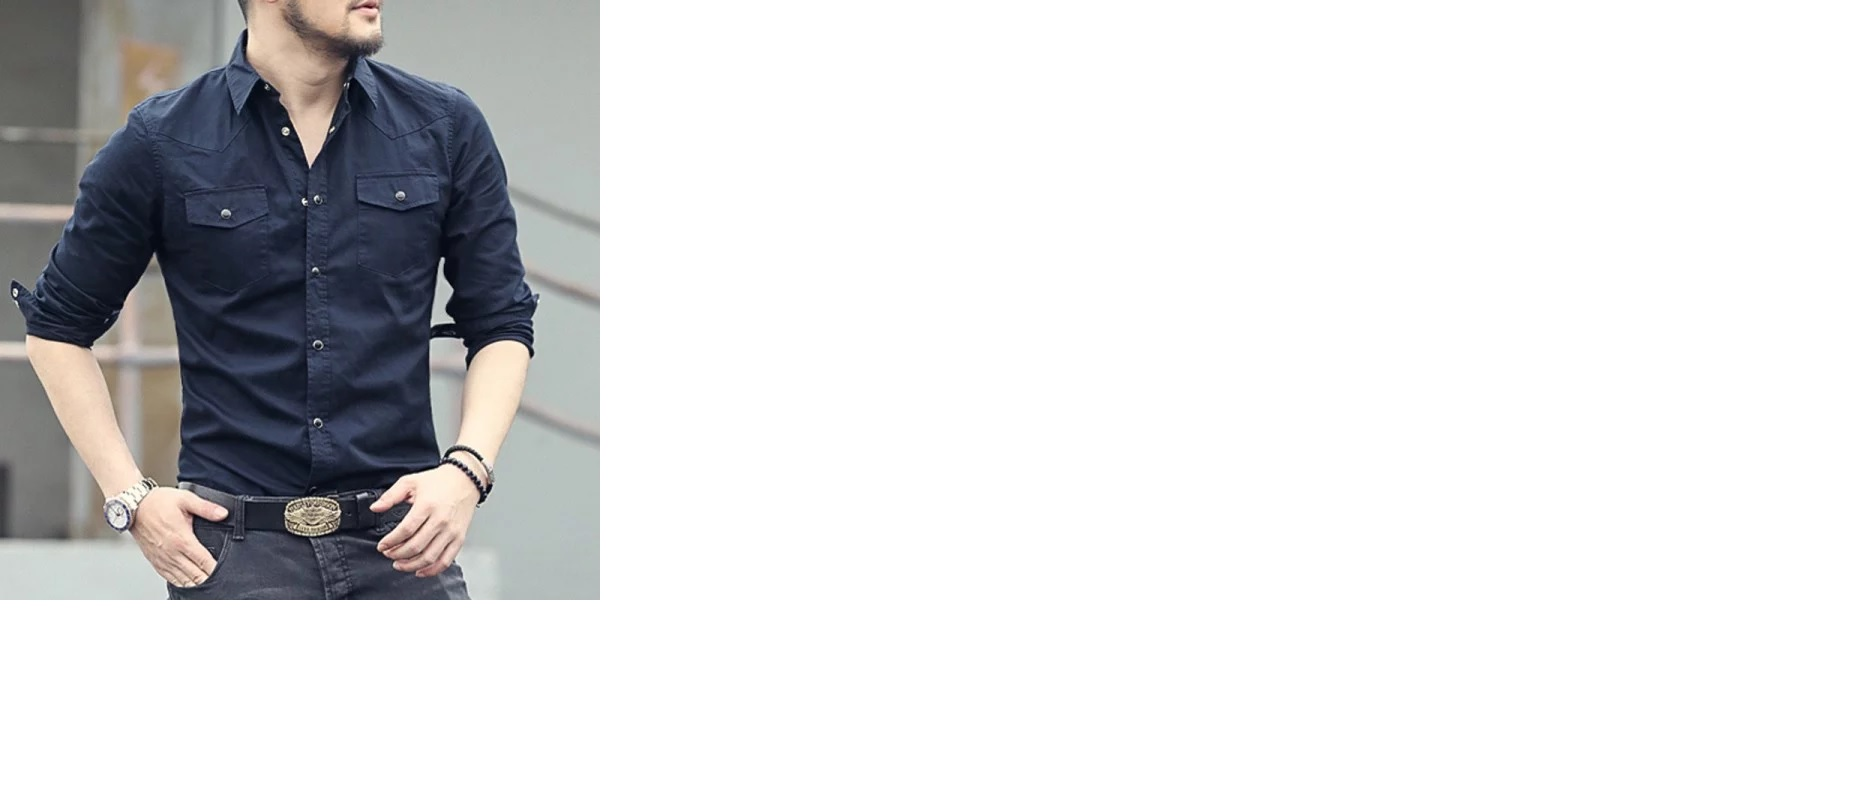Shirt: (25, 54, 600, 482)
